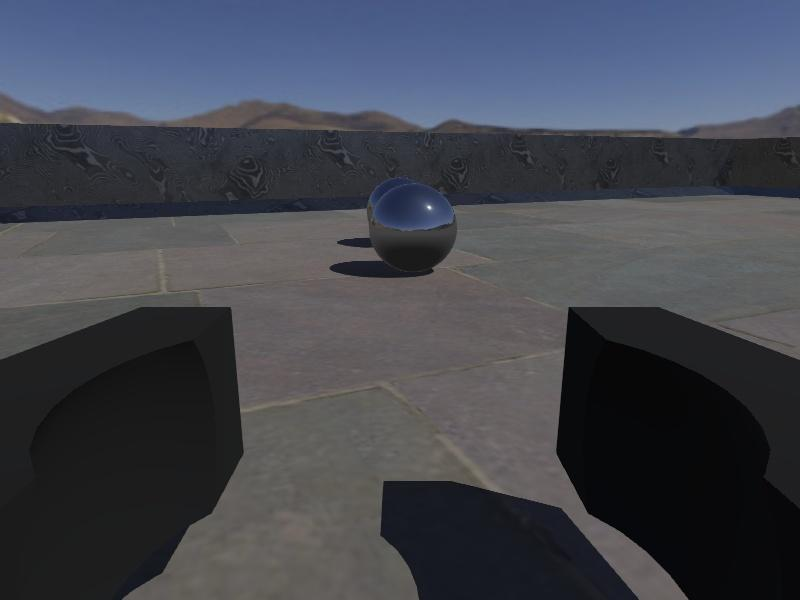steel ball: (368, 182, 458, 273)
